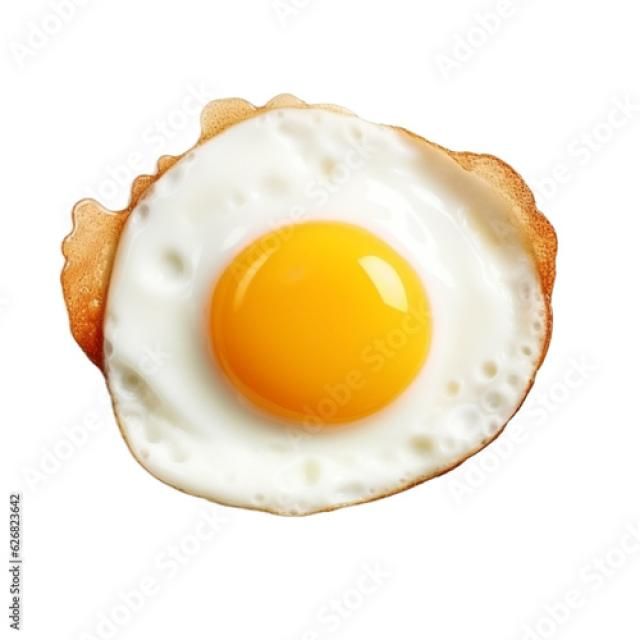Egg: (64, 95, 555, 515)
